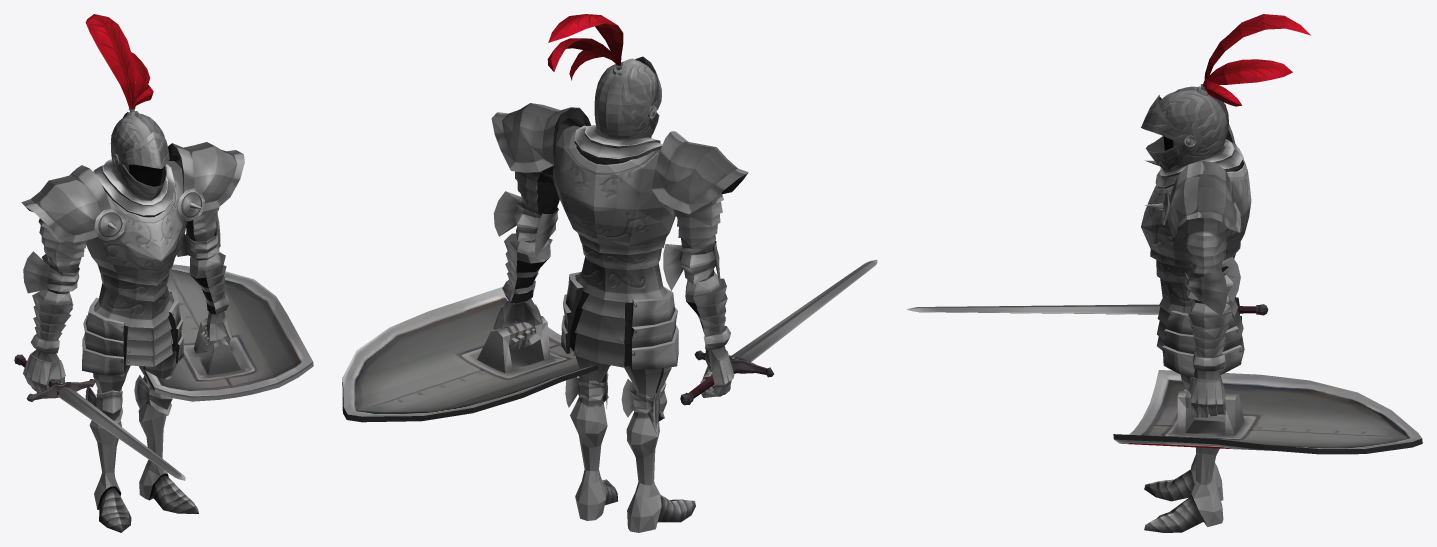
File: Knight Armour N081218.obj
3 views of the same model, side by side, from view 1: azimuth 30°, elevation 25°; view 2: azimuth 150°, elevation 25°; view 3: azimuth 270°, elevation 25° (orthographic). The views are drawn at different scales.
Parts seen in each view (by area): view 1: Model001_5_Material0_1_0_0, Model001_5_Material17_1__1_0_0, Model001_5_Material18_1_0_0, Model001_5_Material17_1_0_0, Model001_5_Material12_1_1_0_0; view 2: Model001_5_Material0_1_0_0, Model001_5_Material17_1__1_0_0, Model001_5_Material17_1_0_0, Model001_5_Material0_1__1_0_0; view 3: Model001_5_Material0_1_0_0, Model001_5_Material17_1__1_0_0, Model001_5_Material17_1_0_0, Model001_5_Material18_1_0_0, Model001_5_Material0_1__1_0_0.
Part boxes in pixels (box(x1,y1,x2,y2)): Model001_5_Material0_1_0_0: box(21, 14, 244, 532); Model001_5_Material17_1__1_0_0: box(144, 264, 313, 401); Model001_5_Material18_1_0_0: box(94, 132, 204, 240); Model001_5_Material17_1_0_0: box(14, 354, 185, 480); Model001_5_Material12_1_1_0_0: box(129, 164, 162, 186); Model001_5_Material0_1_0_0: box(491, 14, 748, 532); Model001_5_Material17_1__1_0_0: box(342, 287, 610, 422); Model001_5_Material17_1_0_0: box(680, 259, 877, 405); Model001_5_Material0_1__1_0_0: box(509, 339, 543, 370); Model001_5_Material0_1_0_0: box(1141, 14, 1310, 532); Model001_5_Material17_1__1_0_0: box(1113, 370, 1422, 454); Model001_5_Material17_1_0_0: box(907, 304, 1268, 315); Model001_5_Material18_1_0_0: box(1141, 95, 1196, 224); Model001_5_Material0_1__1_0_0: box(1185, 408, 1225, 435).
Size of the model in its own units: 61.02 by 90.46 by 85.82.
